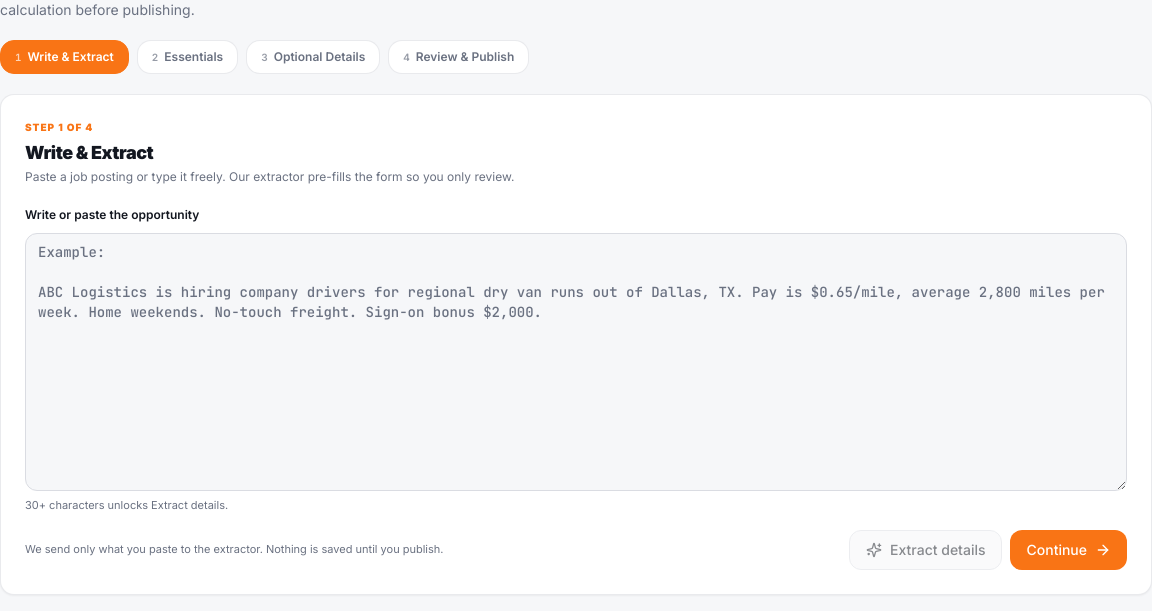
Test case: Phase 1O-A — pay-model conditional inputs › CPM reveals its required inputs and hides every other pay-model input
Click the tab "2Essentials" at coordinates (188, 57), box [137, 40, 238, 74]
(page scrolled)
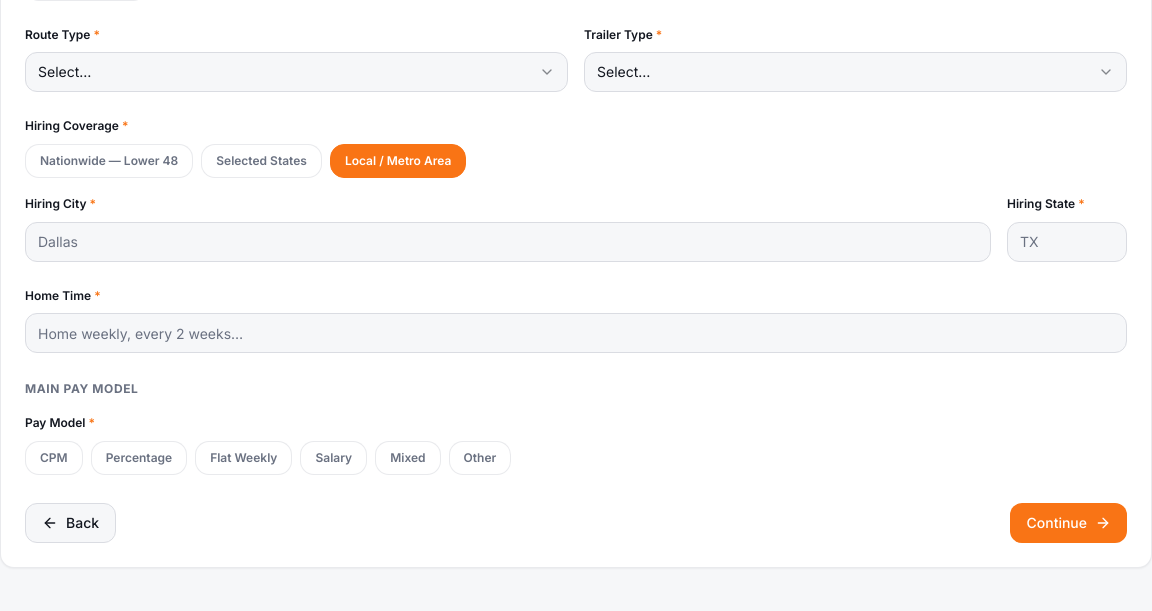
Click the button "CPM" at coordinates (54, 458), box [25, 441, 83, 475]
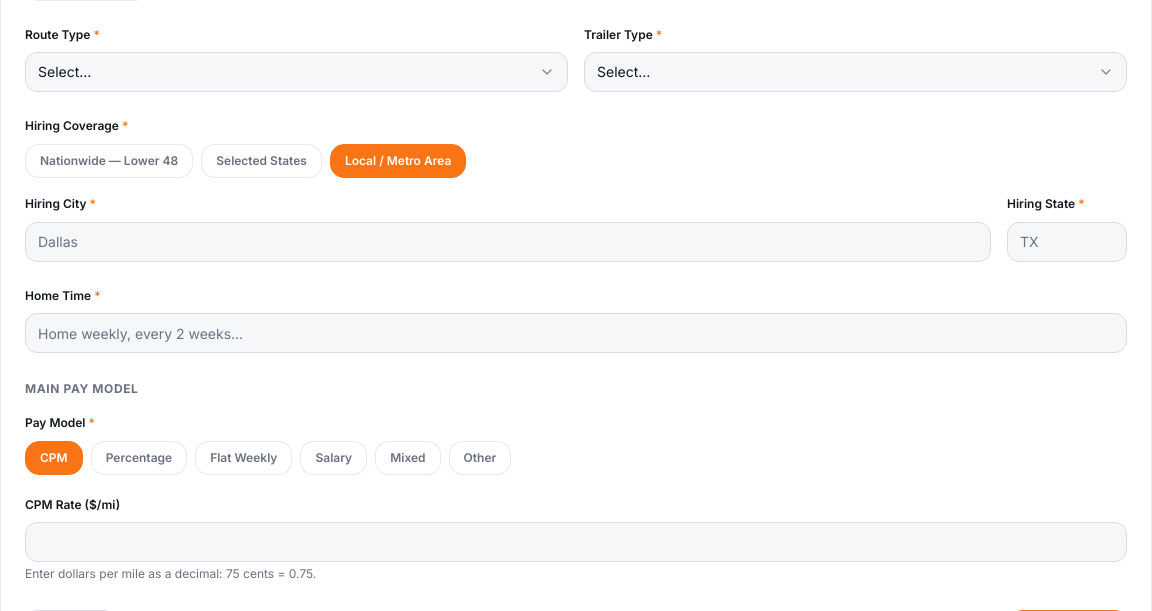
Now the number field named "CPM Rate ($/mi)" is shown, box [25, 522, 1127, 562]
